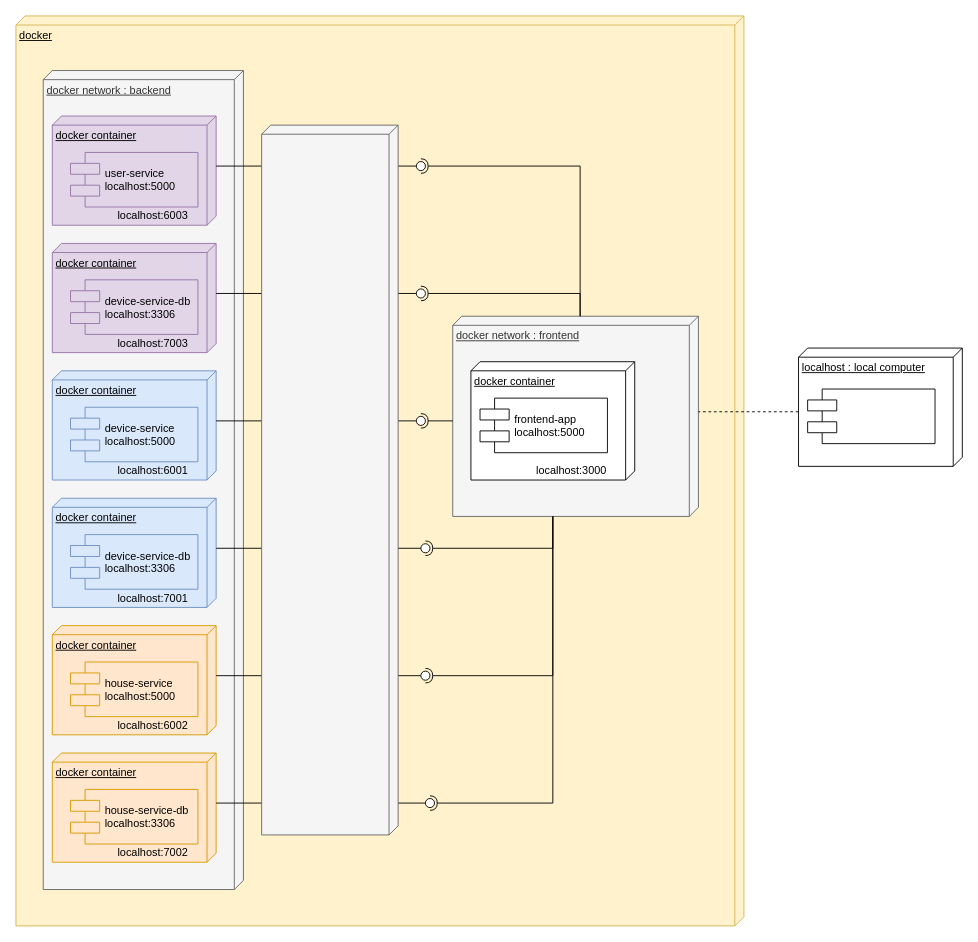
This 978x942 diagram has some shape labels left out. Here are the shapes that lost their labels. From the top down, the centre of each, then its label:
At (871,416): "web browser".
At (329,479): "Database Consistency Layer".
